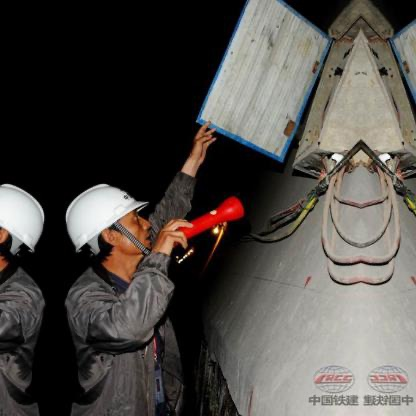Safety Helmet: (63, 174, 158, 271)
